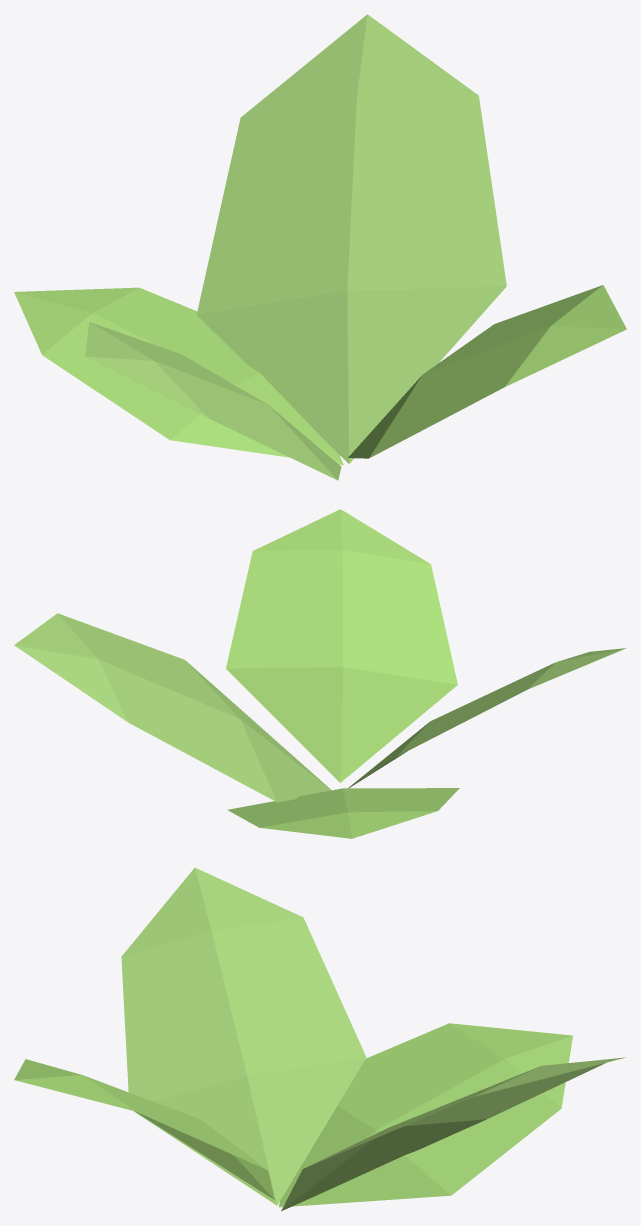
The model's file is Plant_h_OneS_04.fbx.
3 renders of one model, top to bottom at view 1: azimuth 30°, elevation 25°; view 2: azimuth 150°, elevation 25°; view 3: azimuth 270°, elevation 25°, orthographic. The views are drawn at different scales.
Visible parts, largest first — view 1: Plant_h_OneS_04; view 2: Plant_h_OneS_04; view 3: Plant_h_OneS_04.
Part boxes in pixels (x1,y1,x2,y2): Plant_h_OneS_04: [14, 14, 626, 480]; Plant_h_OneS_04: [14, 509, 626, 838]; Plant_h_OneS_04: [14, 867, 625, 1211].
Bounding box in the file's own units: 37.13 × 17.28 × 38.88.
